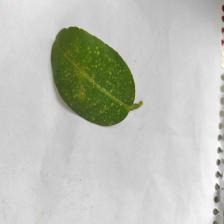greening: (50, 24, 148, 130)
